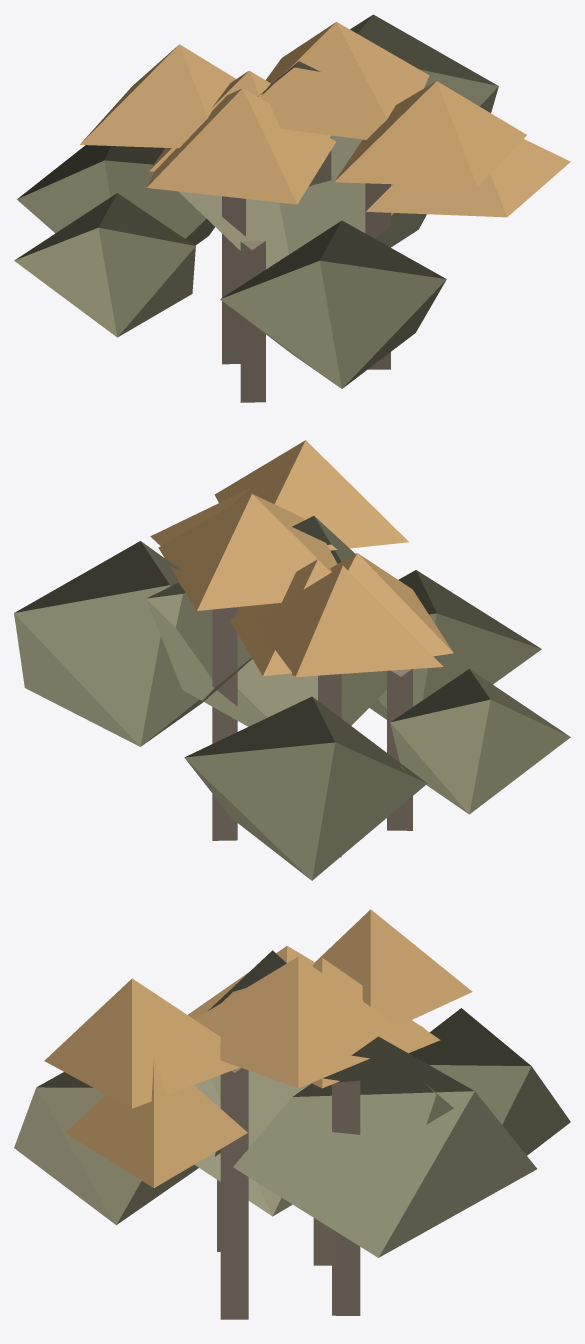
File: shrub.temp.hazel_bloom__winter.glb
3 renders of one model, top to bottom at view 1: azimuth 30°, elevation 25°; view 2: azimuth 150°, elevation 25°; view 3: azimuth 270°, elevation 25°, orthographic. The views are drawn at different scales.
Visible parts, largest first — view 1: shrub.temp.hazel_bloom__winter; view 2: shrub.temp.hazel_bloom__winter; view 3: shrub.temp.hazel_bloom__winter.
Part boxes in pixels (<box>): shrub.temp.hazel_bloom__winter: <box>14,14,570,402</box>; shrub.temp.hazel_bloom__winter: <box>14,440,570,880</box>; shrub.temp.hazel_bloom__winter: <box>14,909,570,1319</box>.
Bounding box in the file's own units: 2.49 × 1.62 × 2.27.
